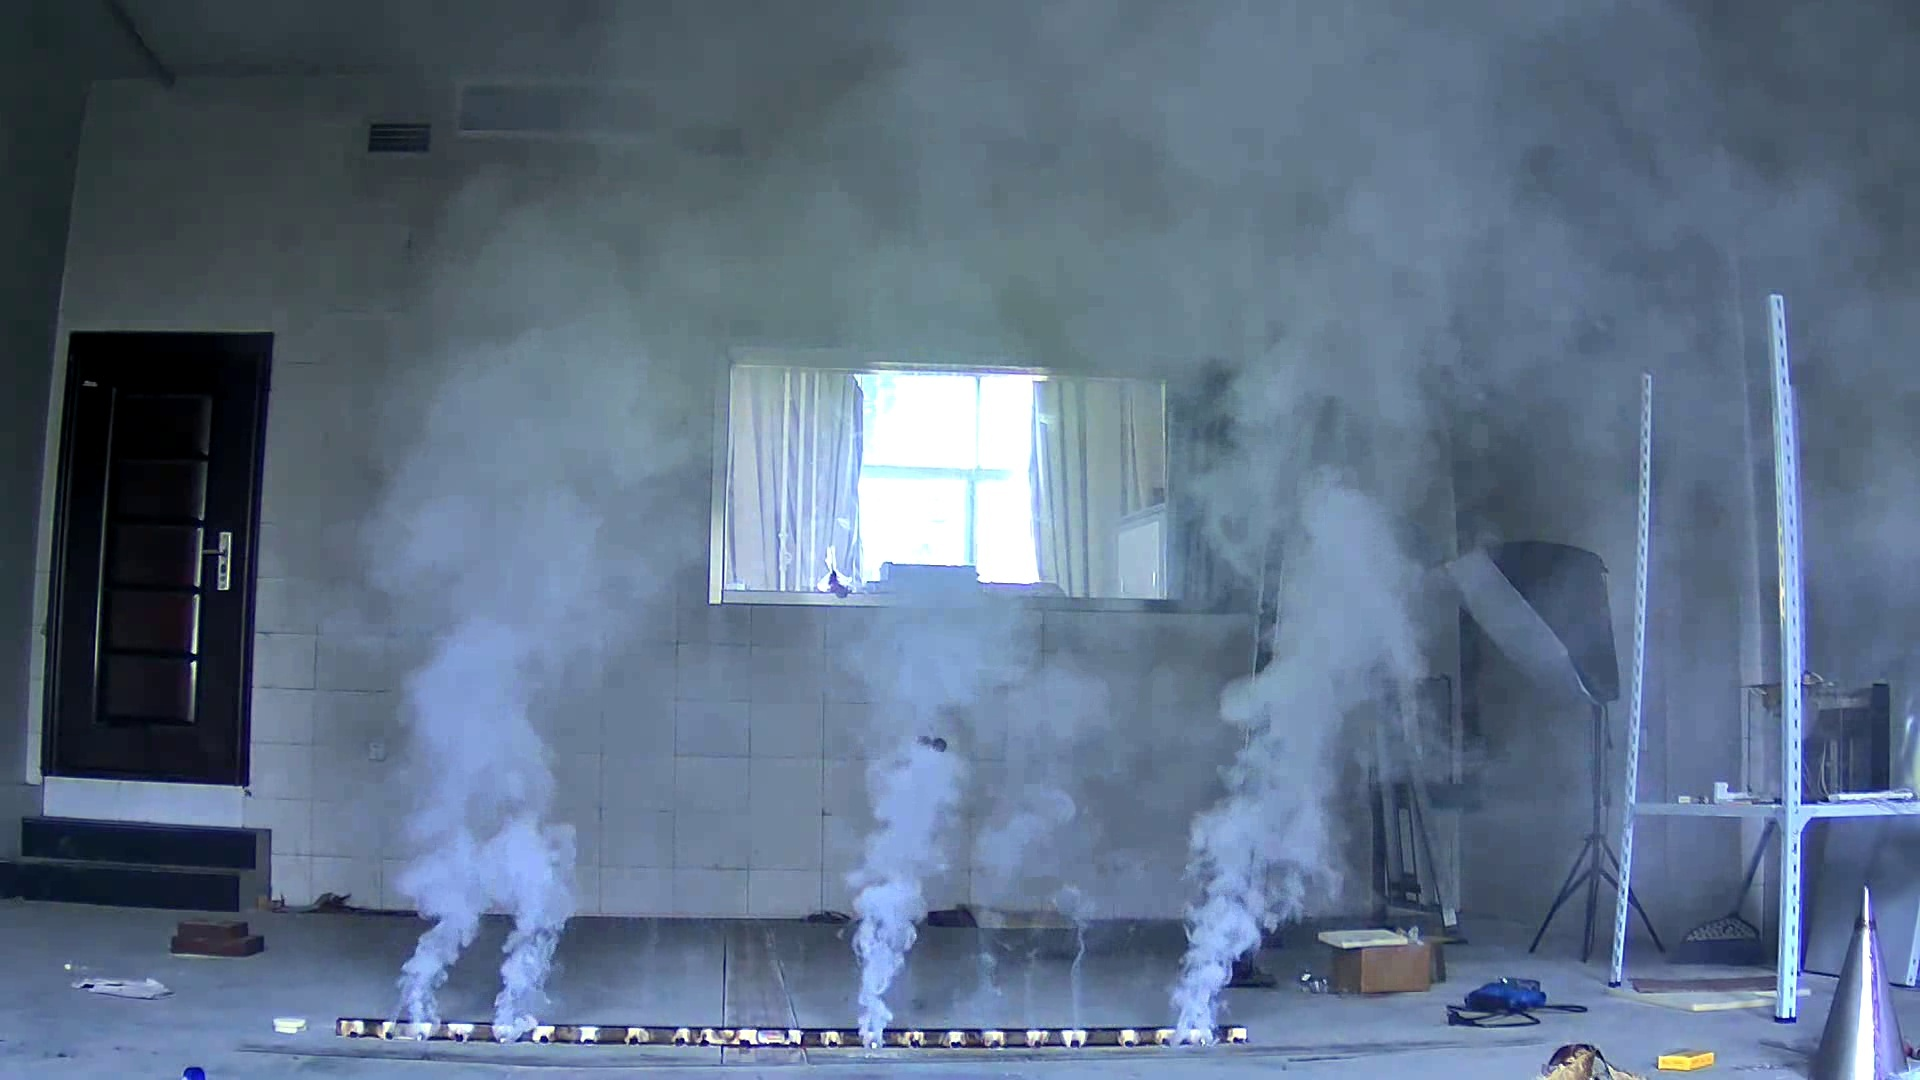smoke: (320, 186, 671, 1015), (1153, 316, 1443, 1018), (825, 556, 1077, 1033)
